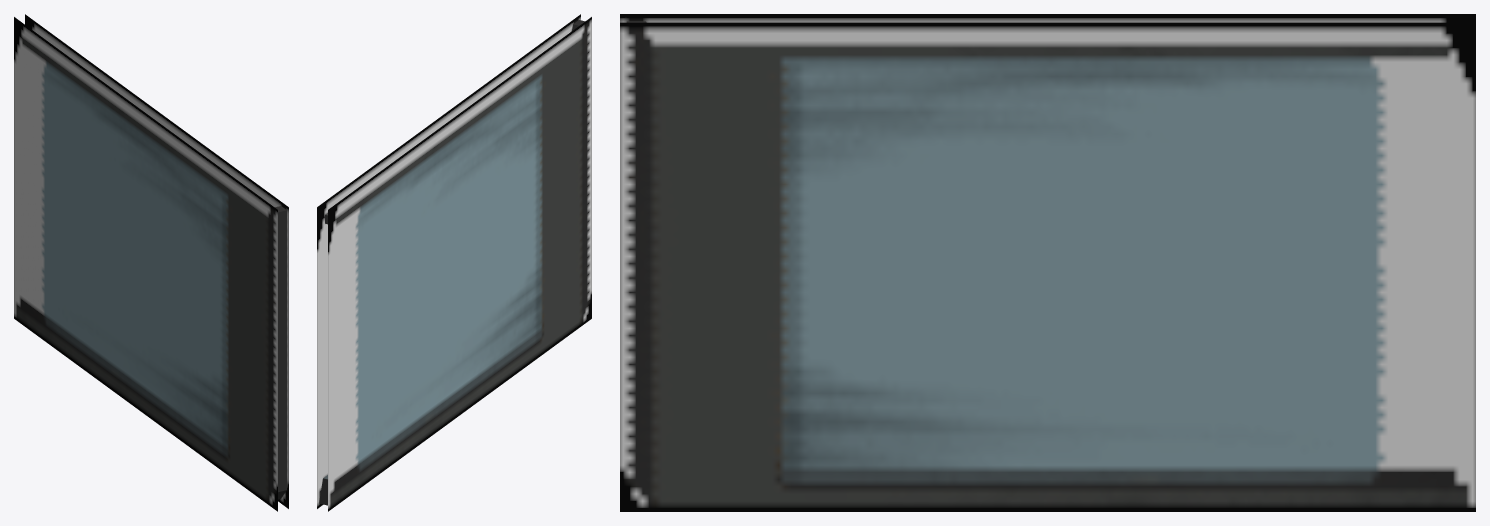
The model's file is pz_native_location_community_police_01_36_frame.obj.
3 renders of one model, left to right at view 1: azimuth 30°, elevation 25°; view 2: azimuth 150°, elevation 25°; view 3: azimuth 270°, elevation 25°, orthographic. The views are drawn at different scales.
Parts seen in each view (by area): view 1: pz_native_location_community_police_01_36_frame; view 2: pz_native_location_community_police_01_36_frame; view 3: pz_native_location_community_police_01_36_frame.
Part boxes in pixels (x1,y1,x2,y2): pz_native_location_community_police_01_36_frame: (14,14,288,511); pz_native_location_community_police_01_36_frame: (317,14,591,511); pz_native_location_community_police_01_36_frame: (620,14,1475,511).
Bounding box in the file's own units: 0.04 × 1.06 × 1.68.
1 material, 1 textured.
